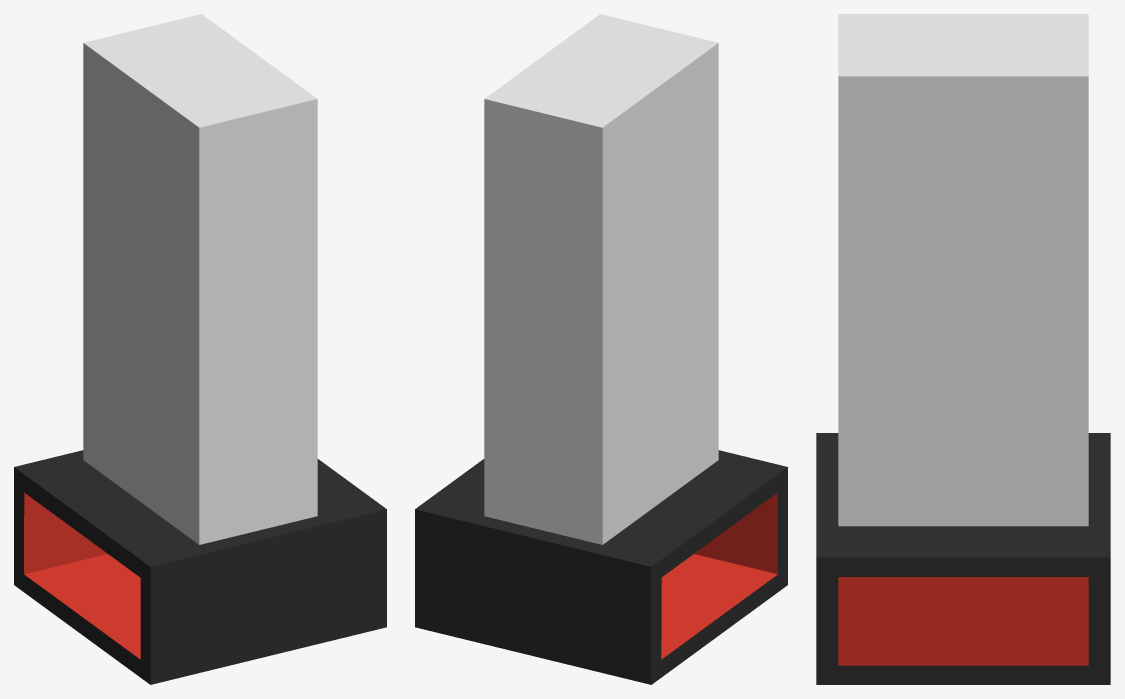
File: fireplace.fbx
3 renders of one model, left to right at view 1: azimuth 30°, elevation 25°; view 2: azimuth 150°, elevation 25°; view 3: azimuth 270°, elevation 25°, orthographic. The views are drawn at different scales.
Visible parts, largest first — view 1: Cube.005; view 2: Cube.005; view 3: Cube.005.
Part boxes in pixels (<box>): Cube.005: <box>14,14,386,684</box>; Cube.005: <box>415,14,787,684</box>; Cube.005: <box>816,14,1110,684</box>.
Size of the model in its own units: 822 by 822 by 1778.
